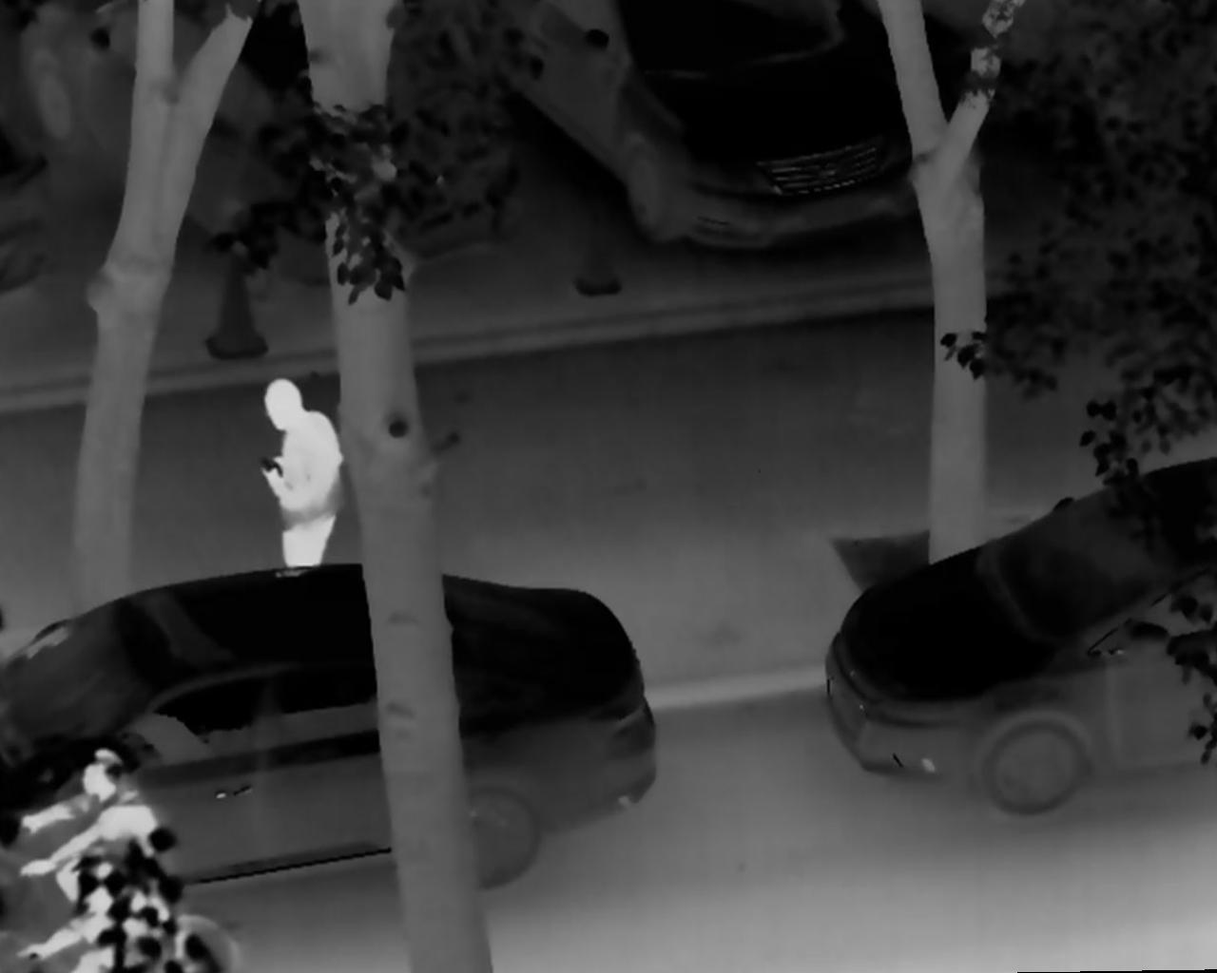person: (19, 746, 164, 907), (21, 855, 183, 973), (257, 371, 348, 570)
